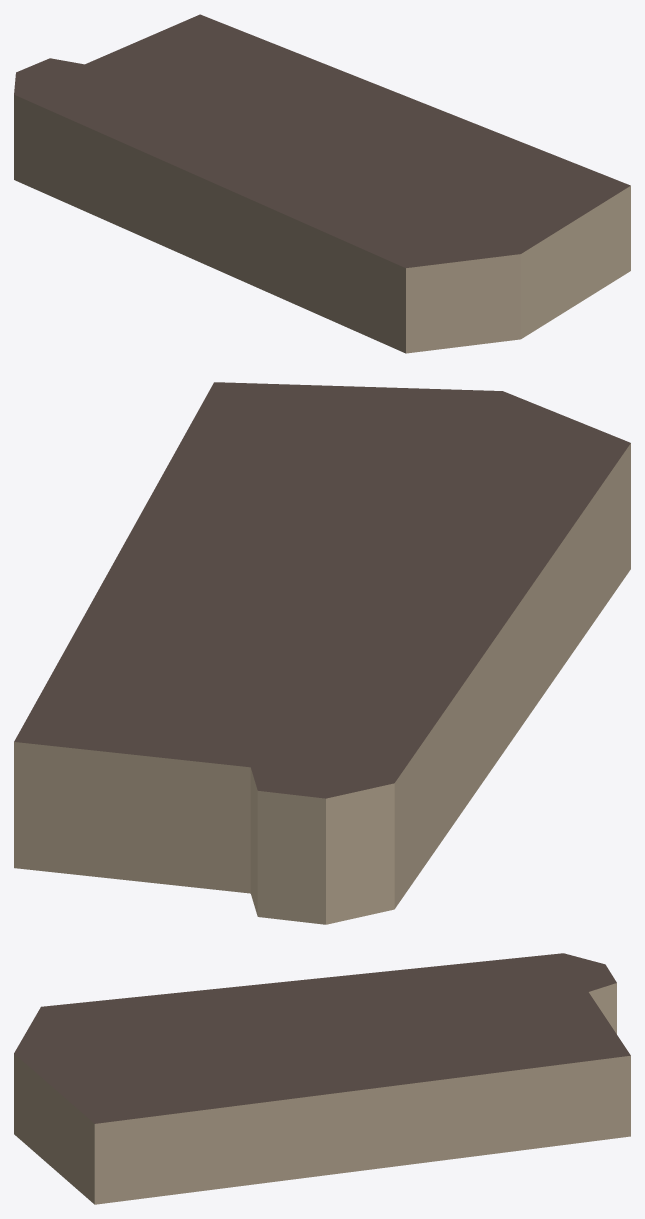
The picture shows the model from 3 angles, top to bottom: view 1: azimuth 30°, elevation 25°; view 2: azimuth 150°, elevation 25°; view 3: azimuth 270°, elevation 25°; orthographic projection. The views are drawn at different scales.
Parts seen in each view (by area): view 1: HP-w445267150; view 2: HP-w445267150; view 3: HP-w445267150.
Part boxes in pixels (x1,y1,x2,y2): HP-w445267150: (14,14,630,353); HP-w445267150: (14,382,630,924); HP-w445267150: (14,953,630,1204).
Bounding box in the file's own units: 40.77 × 9 × 62.27.
